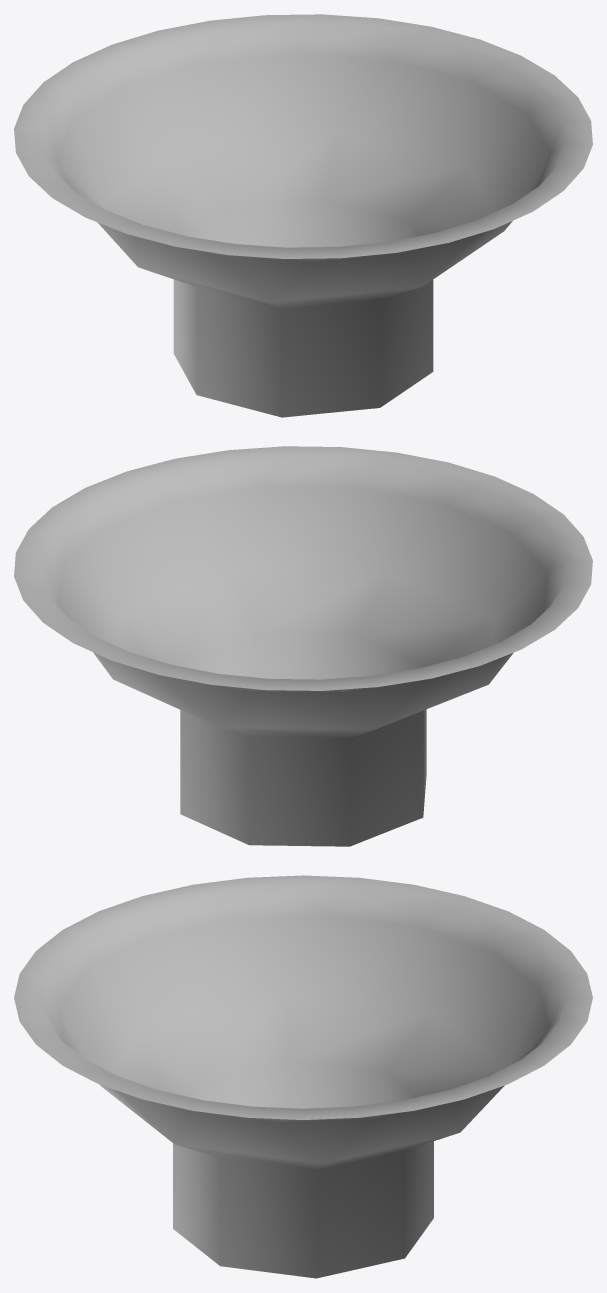
File: Funnel_Collider.fbx
3 renders of one model, top to bottom at view 1: azimuth 30°, elevation 25°; view 2: azimuth 150°, elevation 25°; view 3: azimuth 270°, elevation 25°, orthographic.
Visible parts, largest first — view 1: Funnel_Collider; view 2: Funnel_Collider; view 3: Funnel_Collider.
Part boxes in pixels (box(x1,y1,x2,y2)): Funnel_Collider: box(14, 14, 592, 417); Funnel_Collider: box(14, 446, 592, 846); Funnel_Collider: box(14, 875, 592, 1278).
Bounding box in the file's own units: 1394 × 599 × 1394.
